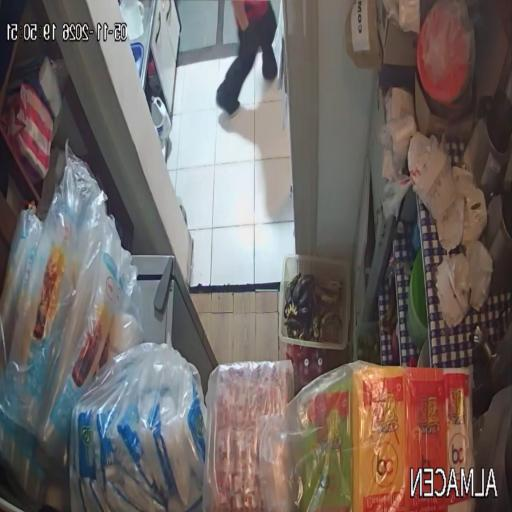Envase para platanos: (279, 255, 351, 350)
Persona1: (217, 0, 277, 115)
Productos culinarios: (0, 148, 143, 508), (260, 361, 473, 512), (70, 343, 206, 512), (203, 361, 294, 512)
Taper: (406, 250, 428, 349), (417, 341, 430, 367)
